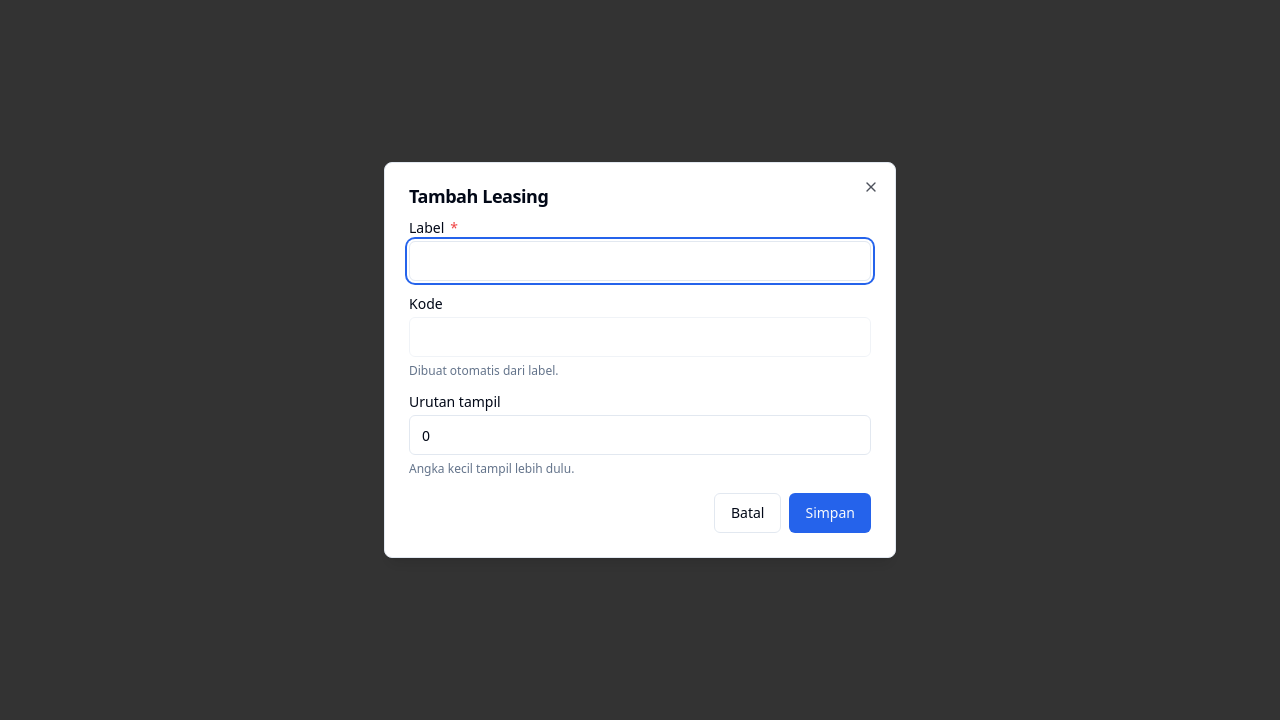
it: MasterDataFormDialog › surfaces the backend conflict message
Type "MTF" into the field labelled "Label *".
click(640, 261); type("MTF")  # box 409,241 -> 871,281
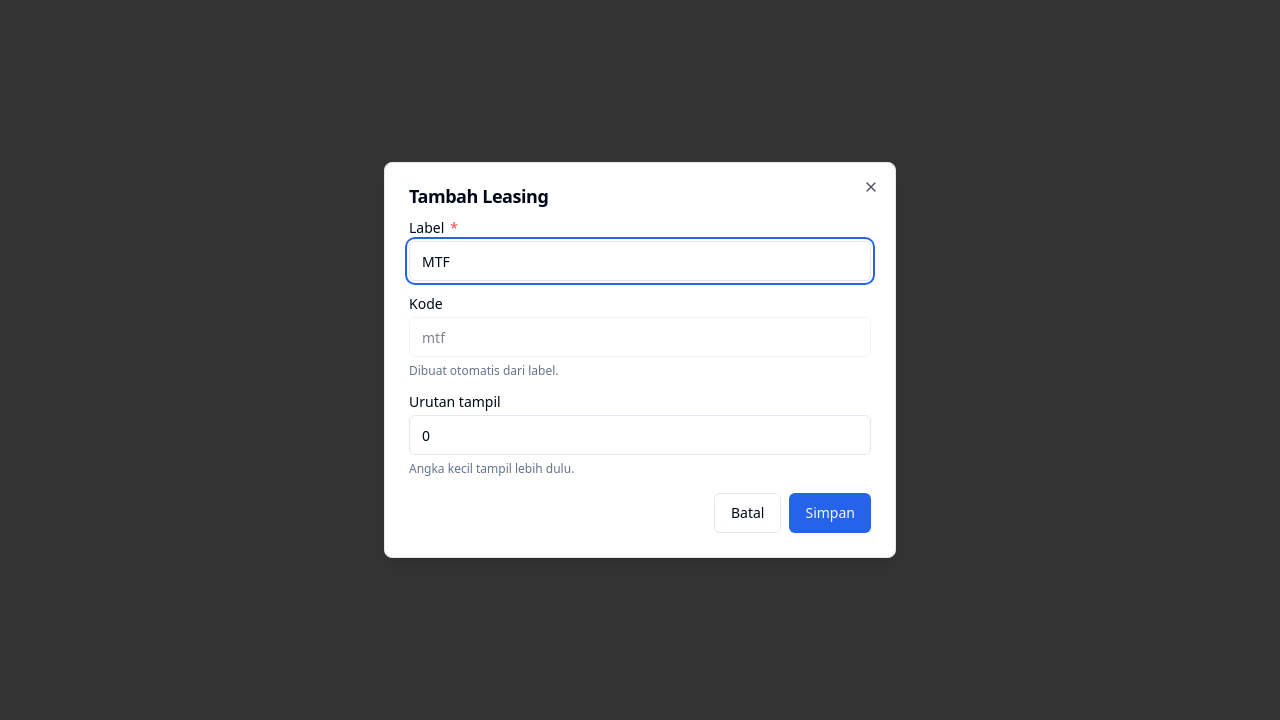
Click the button "Simpan".
click(830, 513)  # box 790,493 -> 871,533
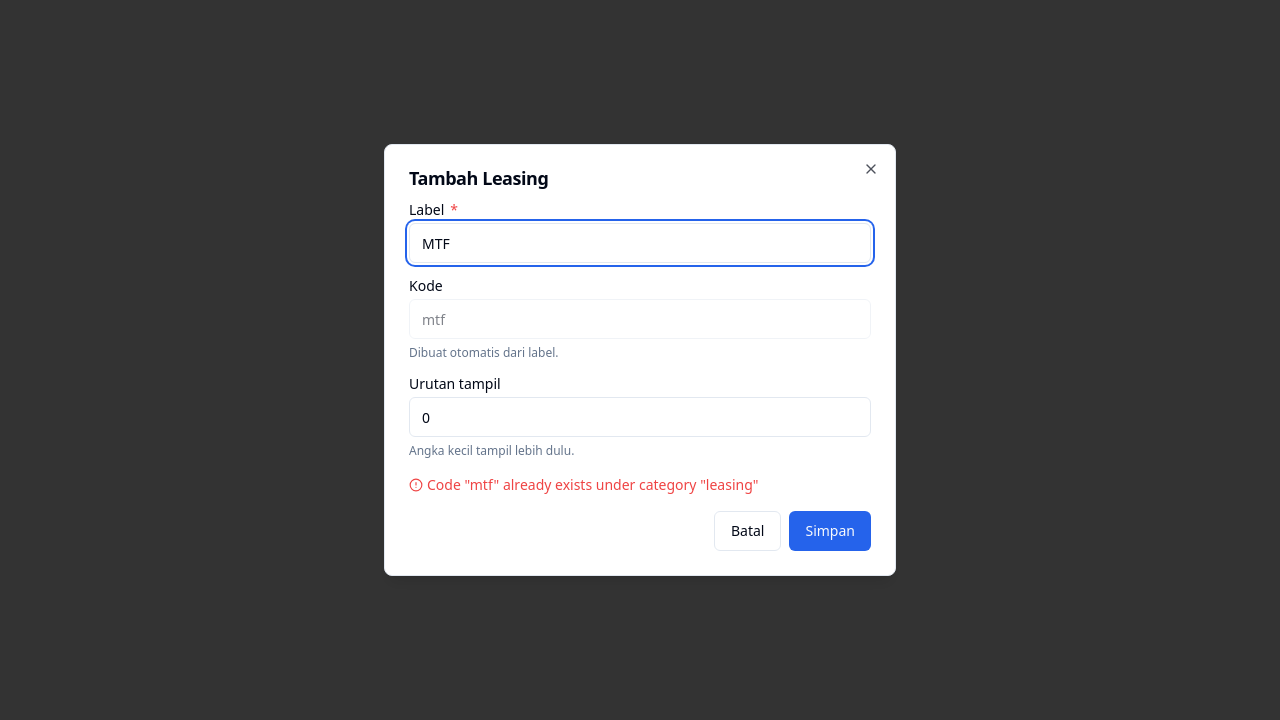
Expected: the text "Code \"mtf\" already exists under category \"leasing\"" is shown, 409,475 -> 758,494
